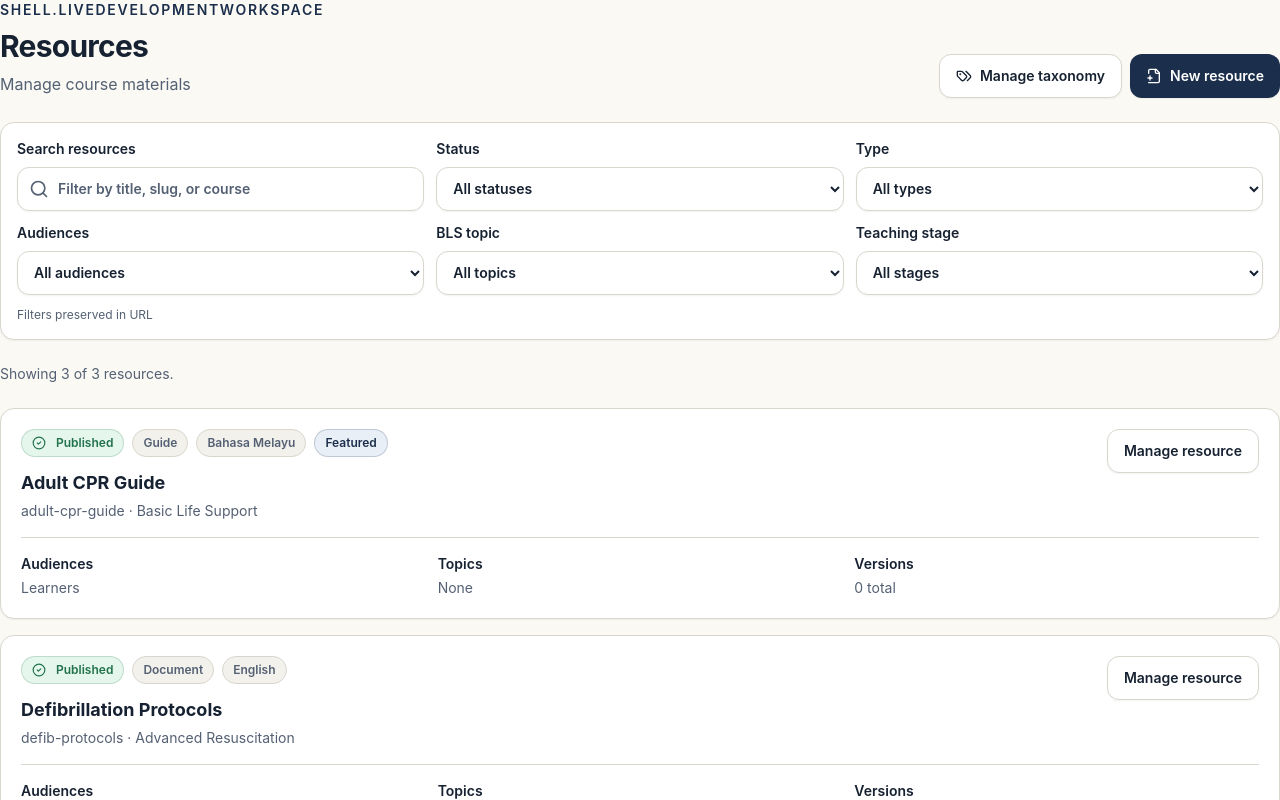
Test: ResourcesAdminPage bilingual rendering and search › matches search against both English and Bahasa Melayu course titles
The image size is (1280, 800).
Search by BM course title "Bantuan Hayat Asas"
Type "Bantuan Hayat Asas" into the search field labelled "Search resources" at (221, 189), box [17,167,424,211]
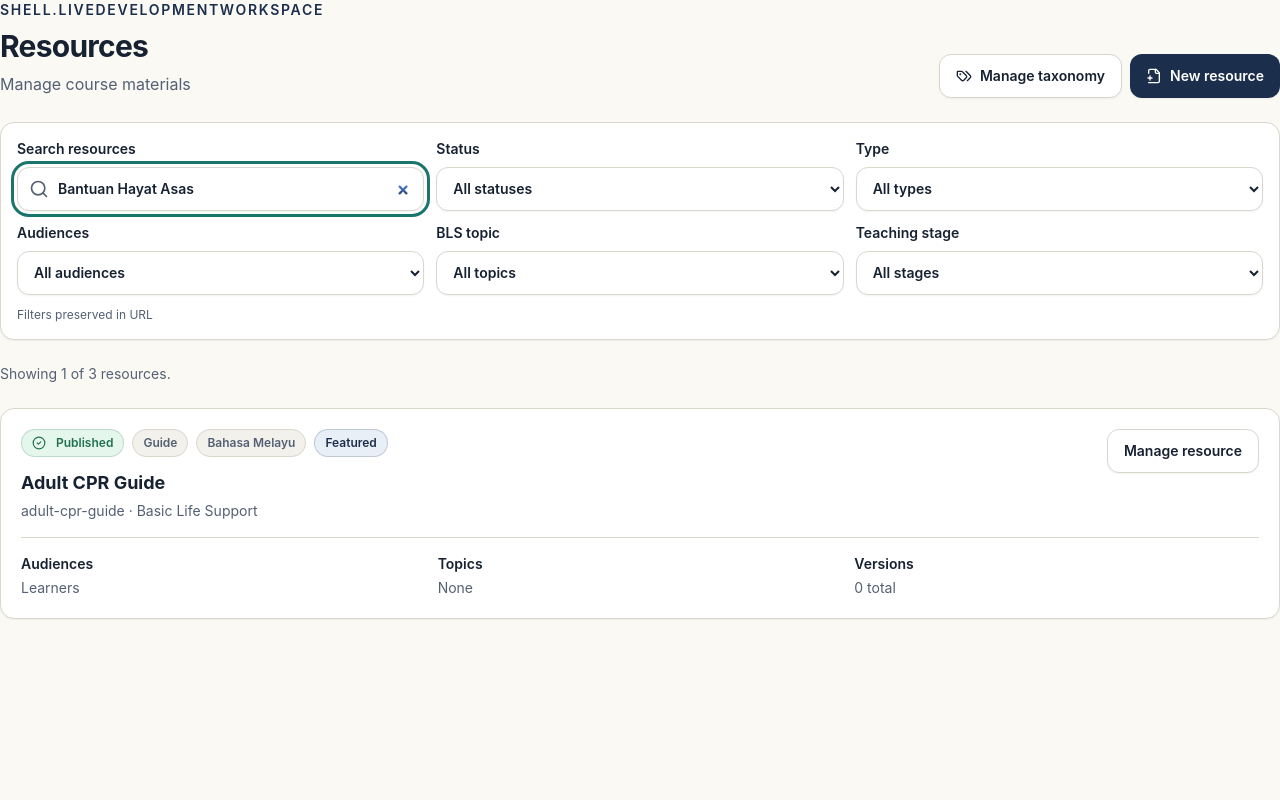
Expected: the heading "Adult CPR Guide" is shown, [21,472,165,493]
Expected: the link "Defibrillation Protocols" is gone
Clear and search by EN course title "Advanced Resuscitation"
Replace the text in the search field labelled "Search resources" with "Advanced Resuscitation" at (221, 189), box [17,167,424,211]
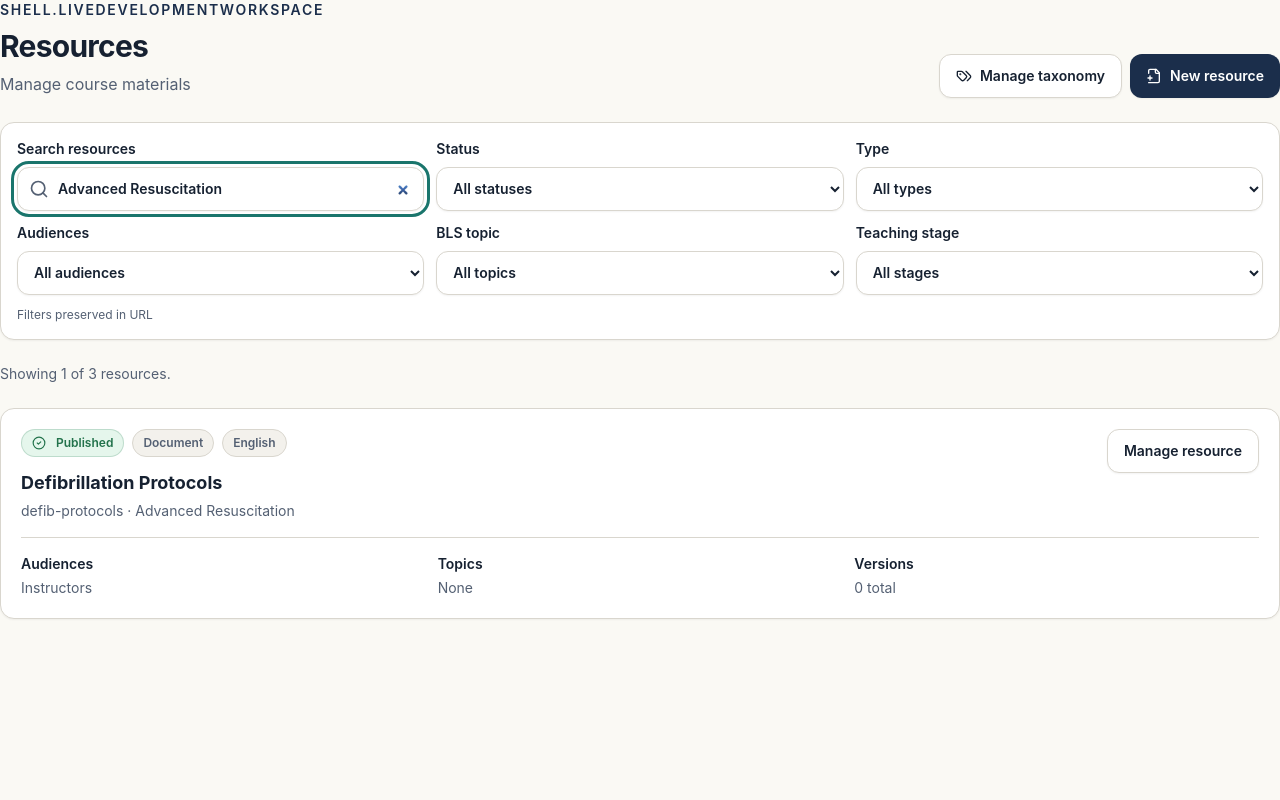
Expected: the heading "Defibrillation Protocols" is shown, [21,472,222,493]
Expected: the link "Adult CPR Guide" is gone
